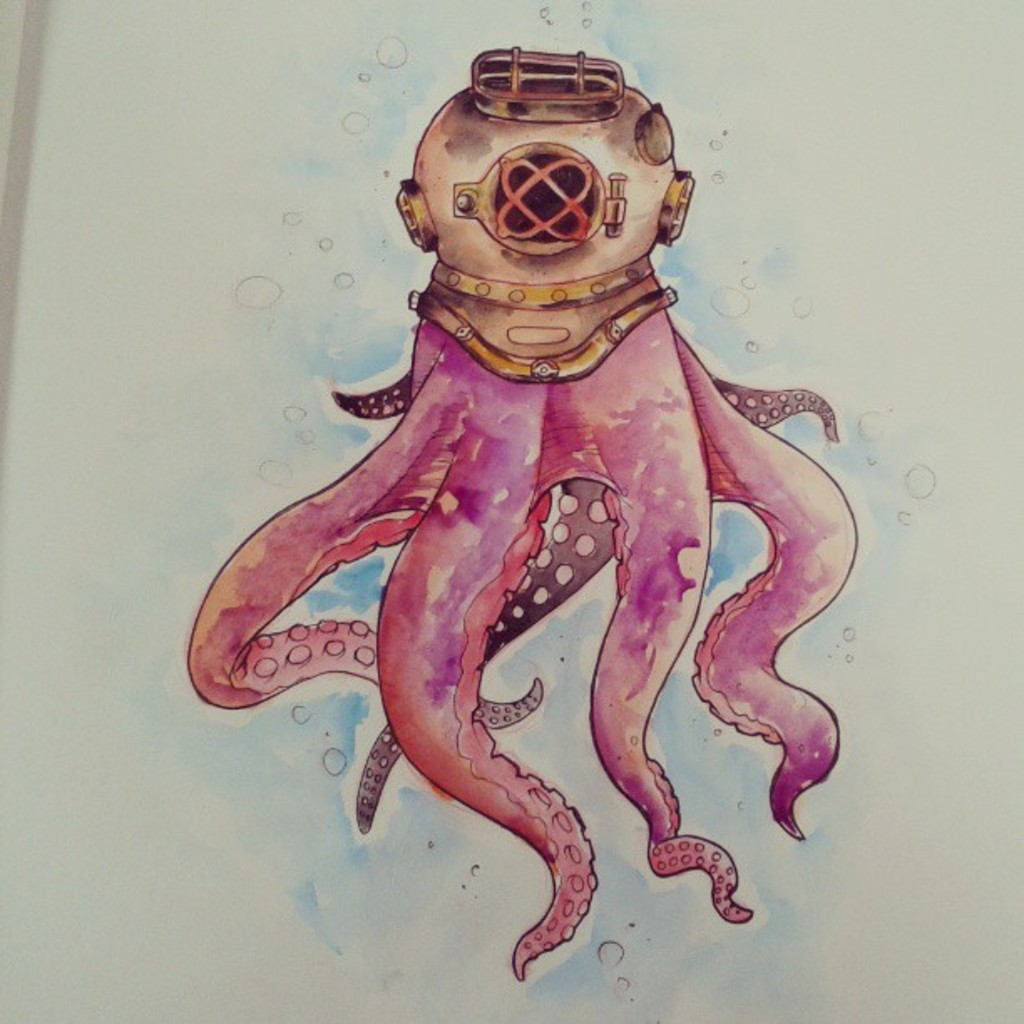face: (443, 90, 625, 308)
